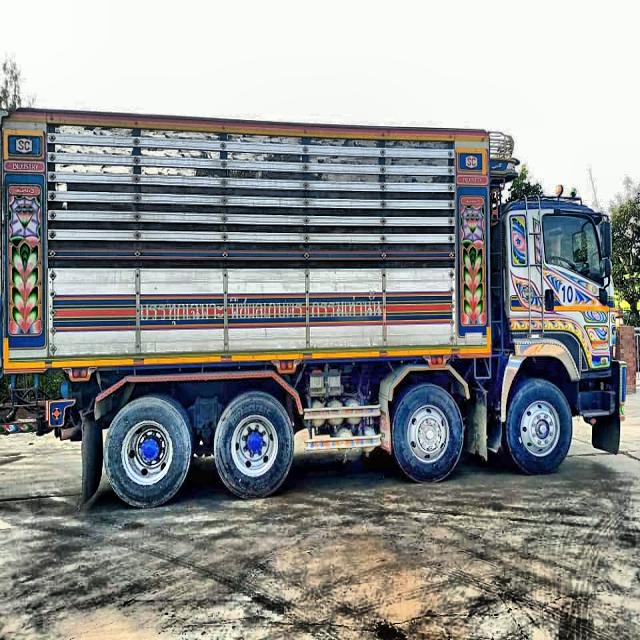trailer: (0, 110, 627, 516)
